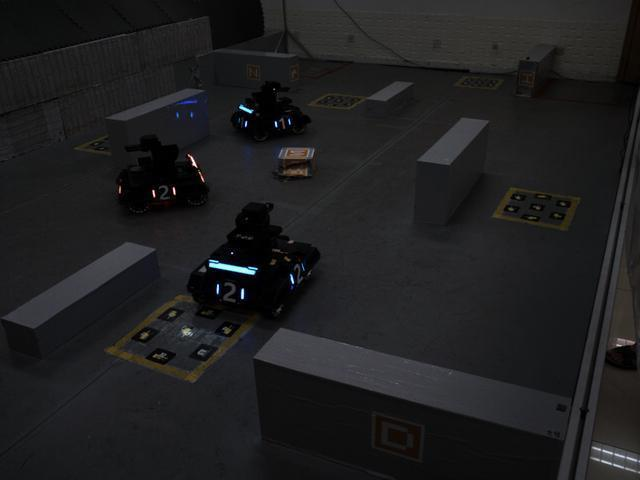armor: (209, 275, 248, 312), (280, 258, 309, 294), (147, 184, 179, 202), (272, 113, 294, 134), (234, 112, 250, 133)
